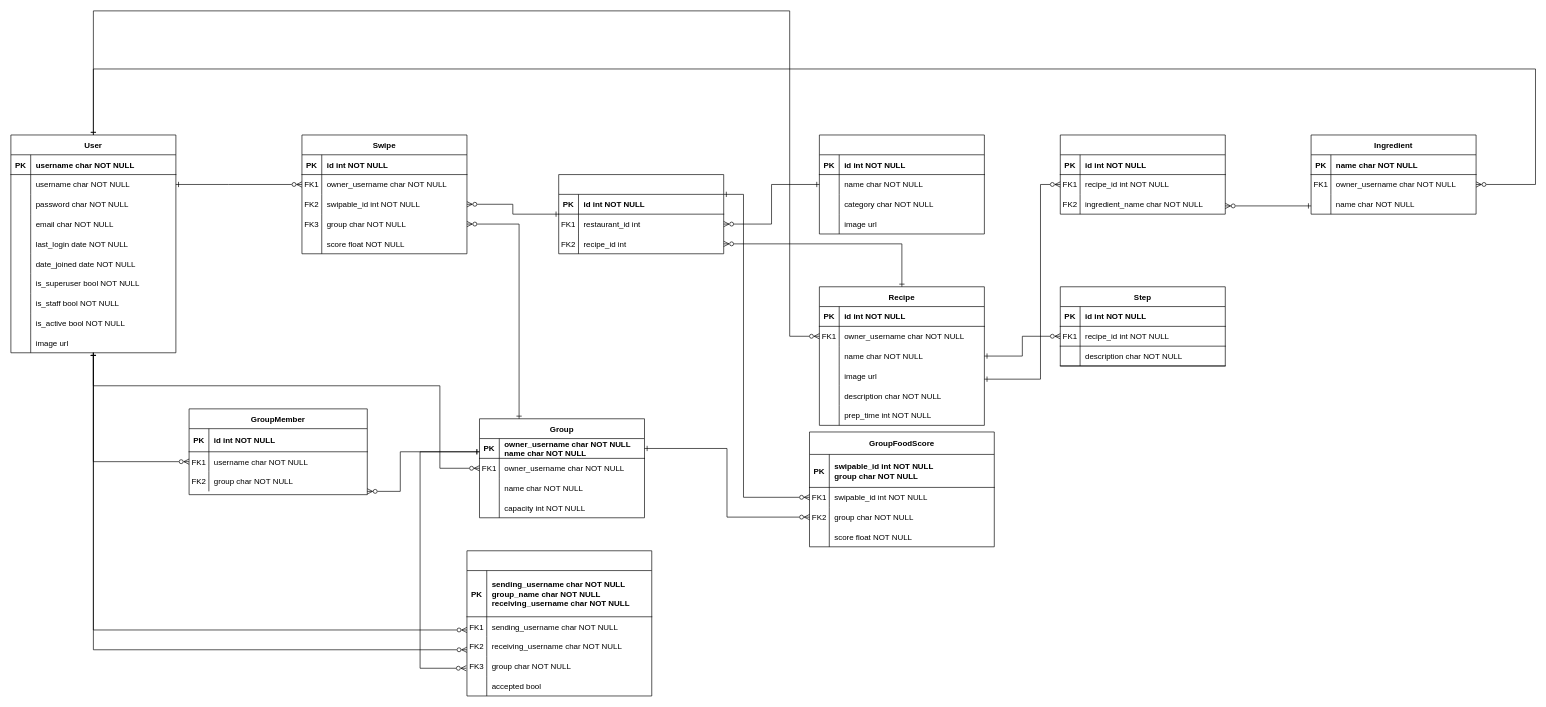
Some shapes in this 1546 by 707 pixel diagram are drawn without their labels. Each missing label, with the box of its shape:
RecipeIngredient: (1060, 134, 1225, 214)
Restaurant: (819, 134, 984, 234)
SendGroupInvite: (466, 550, 652, 696)
Swipable: (558, 174, 724, 254)
